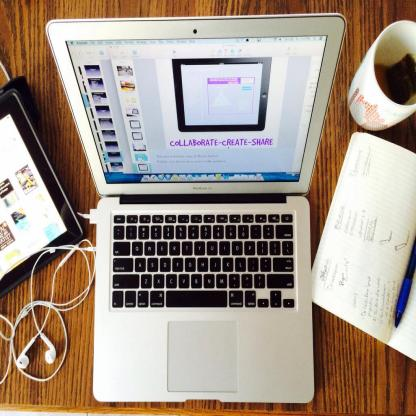board: (45, 11, 347, 402)
